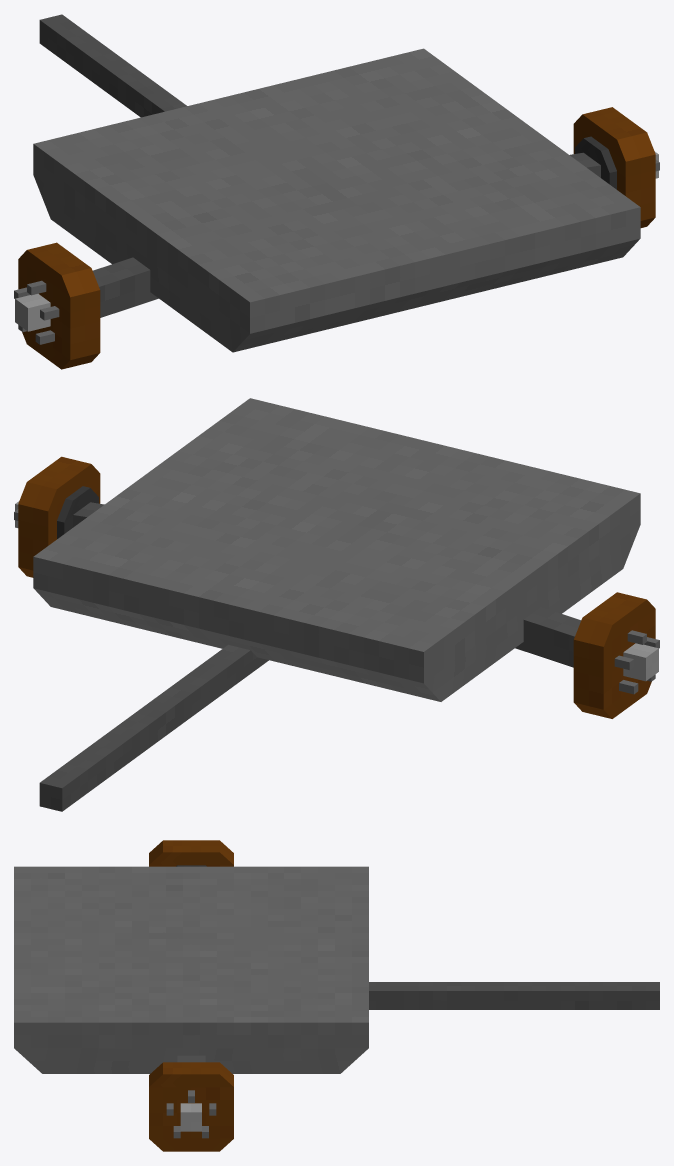
Rendered from lm_suspension_unu_rear_standard_leaf_2wd.obj.
3 views of the same model, one above another, from view 1: azimuth 30°, elevation 25°; view 2: azimuth 150°, elevation 25°; view 3: azimuth 270°, elevation 25° (orthographic). The views are drawn at different scales.
Parts seen in each view (by area): view 1: cuboid, $RightBackWheel, $DriveShaft, $LeftBackWheel, $Axle2_Left, $LeftBack; view 2: cuboid, $DriveShaft, $RightBackWheel, $LeftBackWheel, $Axle2_Left, $LeftBack; view 3: cuboid, $DriveShaft, $LeftBackWheel, $RightBackWheel.
Boxes of the visible parts, box(x1,y1,x2,y2) form: cuboid: box(33, 48, 640, 352); $RightBackWheel: box(14, 242, 100, 369); $DriveShaft: box(39, 14, 187, 117); $LeftBackWheel: box(573, 107, 659, 227); $Axle2_Left: box(93, 257, 158, 317); $LeftBack: box(575, 136, 616, 189); cuboid: box(33, 398, 640, 701); $DriveShaft: box(39, 645, 268, 811); $RightBackWheel: box(573, 592, 659, 718); $LeftBackWheel: box(14, 456, 100, 577); $Axle2_Left: box(515, 607, 581, 667); $LeftBack: box(57, 486, 98, 538); cuboid: box(14, 866, 368, 1073); $DriveShaft: box(369, 982, 659, 1009); $LeftBackWheel: box(149, 1062, 233, 1151); $RightBackWheel: box(149, 840, 233, 866).
Bounding box in the file's own units: 2.62 × 0.4375 × 2.84.
